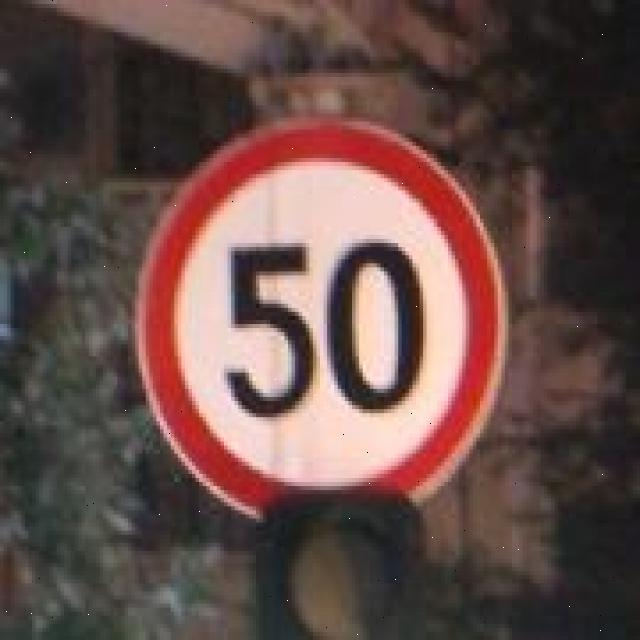speed limit 50: (132, 120, 508, 527)
